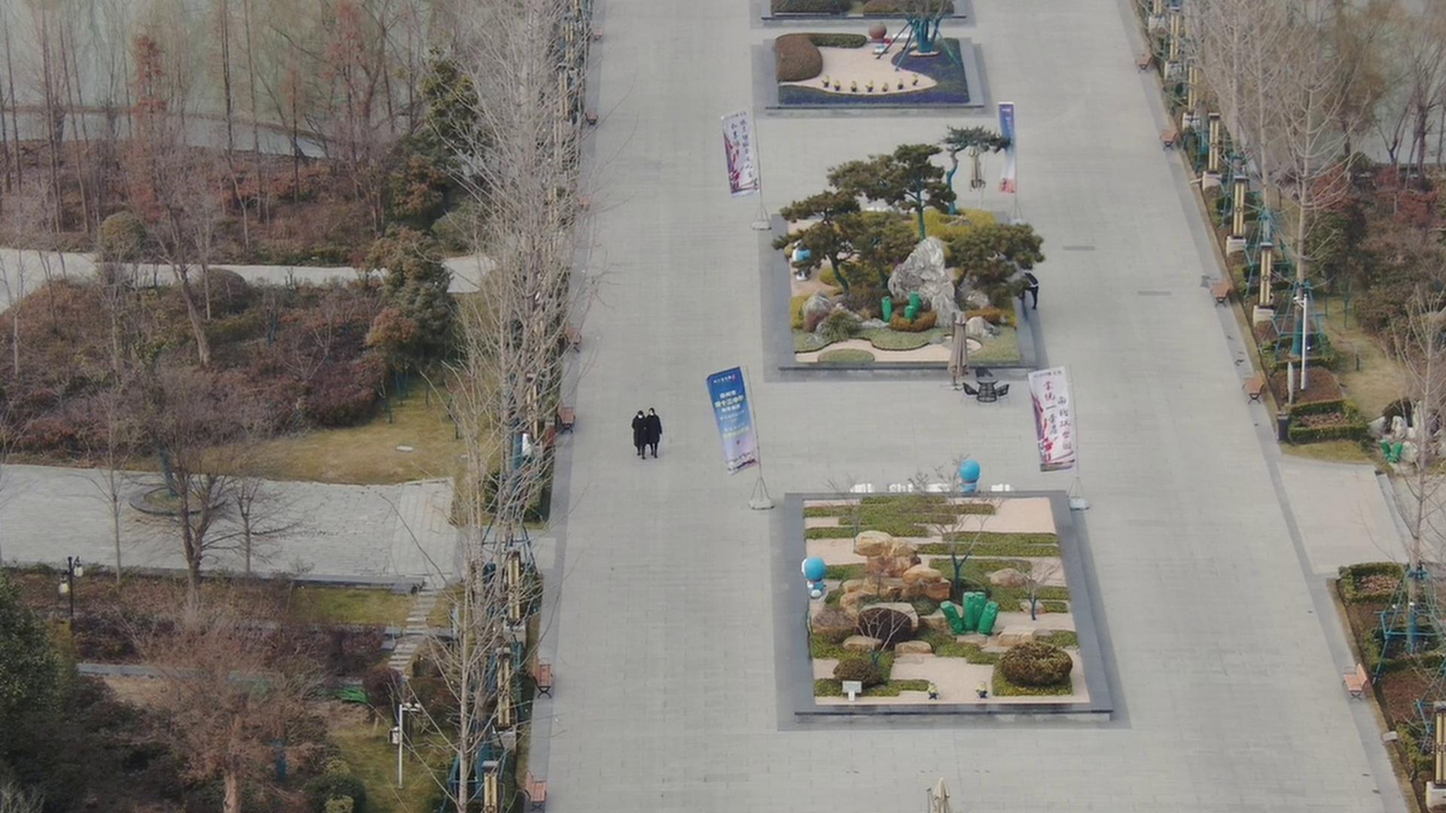class_2: (623, 402, 666, 467)
human: (326, 635, 352, 696)
